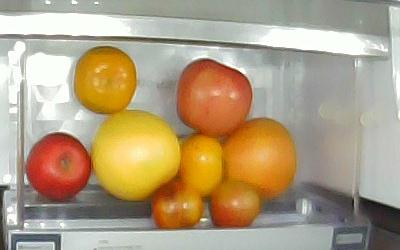apple: (177, 59, 253, 136), (27, 133, 91, 201)
grapefruit: (91, 110, 181, 201), (223, 118, 296, 201)
persimmon: (74, 47, 138, 114), (181, 135, 223, 197)
prune: (152, 180, 204, 229), (209, 182, 259, 228)
